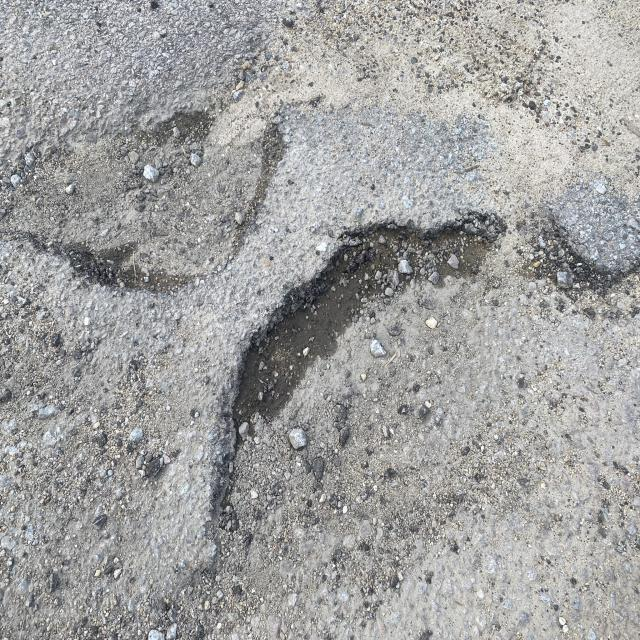Pothole: (193, 177, 505, 531)
